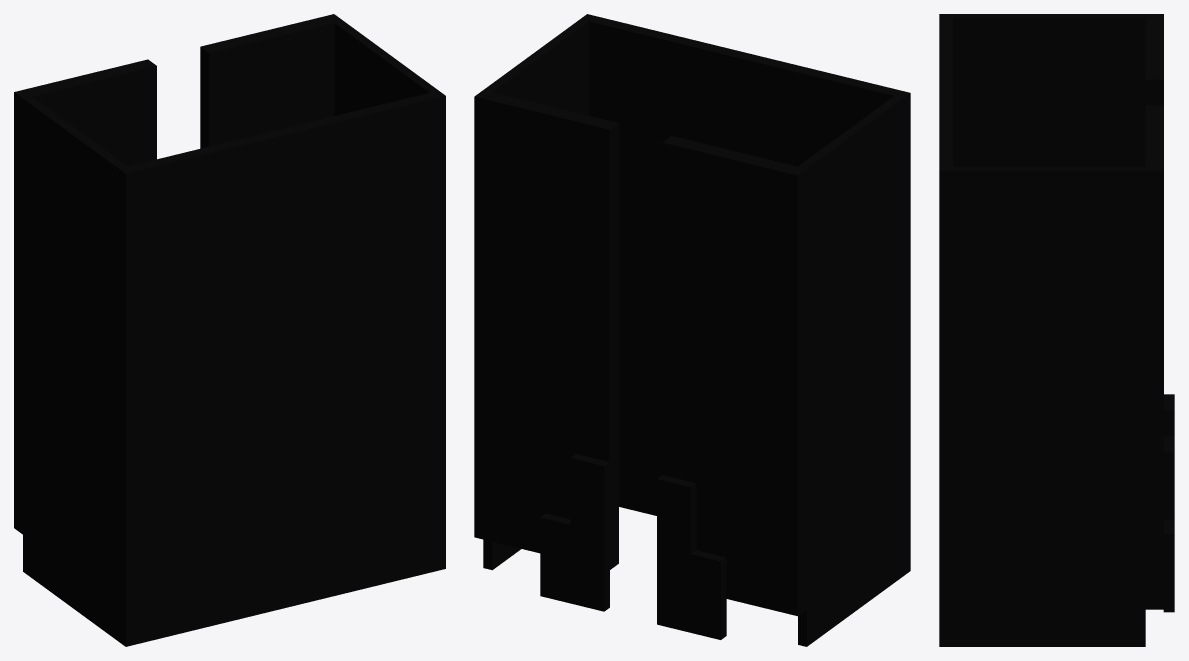
Rendered from body.obj.
3 renders of one model, left to right at view 1: azimuth 30°, elevation 25°; view 2: azimuth 150°, elevation 25°; view 3: azimuth 270°, elevation 25°, orthographic.
Parts seen in each view (by area): view 1: back_panel, right_side_panel, left_front_panel, right_front_panel, left_side_panel; view 2: right_front_panel, left_front_panel, right_side_panel, back_panel, left_side_panel, right_lapel_upper, left_lapel_upper, left_lapel_lower, right_lapel_lower; view 3: left_side_panel, right_side_panel, left_front_panel, back_panel, right_front_panel, left_lapel_upper, left_lapel_lower, right_lapel_lower.
Part boxes in pixels (x1,y1,x2,y2): back_panel: (118,91,445,646); right_side_panel: (23,96,134,646); left_front_panel: (200,14,342,148); right_front_panel: (14,59,156,534); left_side_panel: (334,20,445,570); right_front_panel: (662,136,806,616); left_front_panel: (474,90,618,569); right_side_panel: (798,93,910,646); back_panel: (581,14,910,575); left_side_panel: (483,14,594,570); right_lapel_upper: (657,546,726,639); left_lapel_upper: (540,513,609,611); left_lapel_lower: (570,454,609,532); right_lapel_lower: (657,475,696,553); left_side_panel: (939,166,1145,646); right_side_panel: (939,14,1145,166); left_front_panel: (1145,105,1163,609); back_panel: (939,14,953,646); right_front_panel: (1145,14,1163,105); left_lapel_upper: (1163,519,1174,612); left_lapel_lower: (1164,436,1174,519); right_lapel_lower: (1164,394,1174,436).
Bounding box in the file's own units: 8.6 × 12.15 × 5.45.
